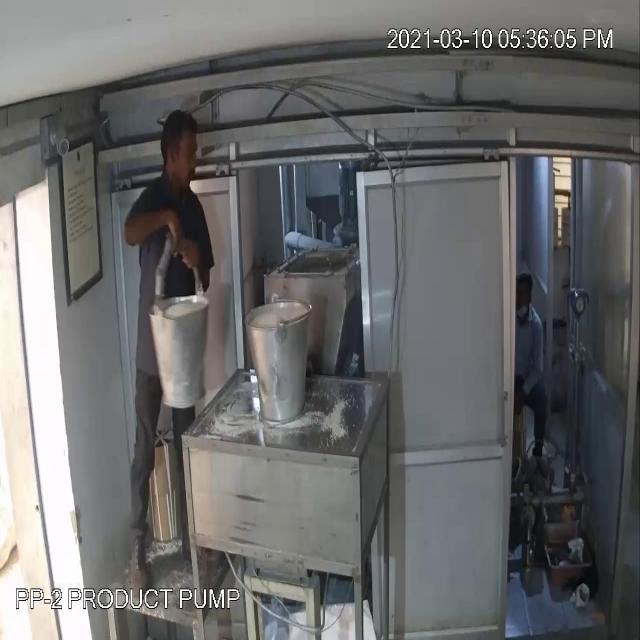No_Gloves: (123, 201, 185, 262)
